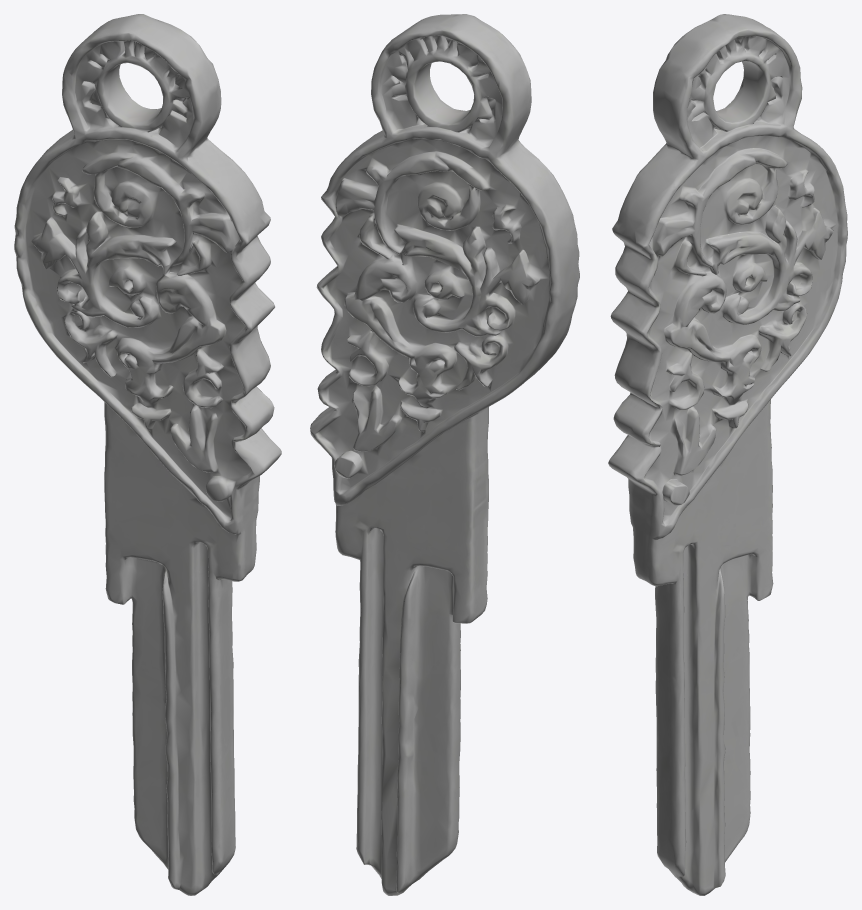
Rendered from key_right.glb.
The picture shows the model from 3 angles, left to right: view 1: azimuth 30°, elevation 25°; view 2: azimuth 210°, elevation 25°; view 3: azimuth 270°, elevation 25°; orthographic projection. The views are drawn at different scales.
Parts seen in each view (by area): view 1: tripo_node_68ad55cf-810b-4828-ab29-2623e35d4f91; view 2: tripo_node_68ad55cf-810b-4828-ab29-2623e35d4f91; view 3: tripo_node_68ad55cf-810b-4828-ab29-2623e35d4f91.
Boxes of the visible parts, bbox=[...] form: tripo_node_68ad55cf-810b-4828-ab29-2623e35d4f91: bbox=[14, 14, 281, 895]; tripo_node_68ad55cf-810b-4828-ab29-2623e35d4f91: bbox=[310, 14, 579, 895]; tripo_node_68ad55cf-810b-4828-ab29-2623e35d4f91: bbox=[608, 14, 847, 895].
Bounding box in the file's own units: 0.2123 × 1 × 0.2556.
Materials: 1 (1 with a texture image).
